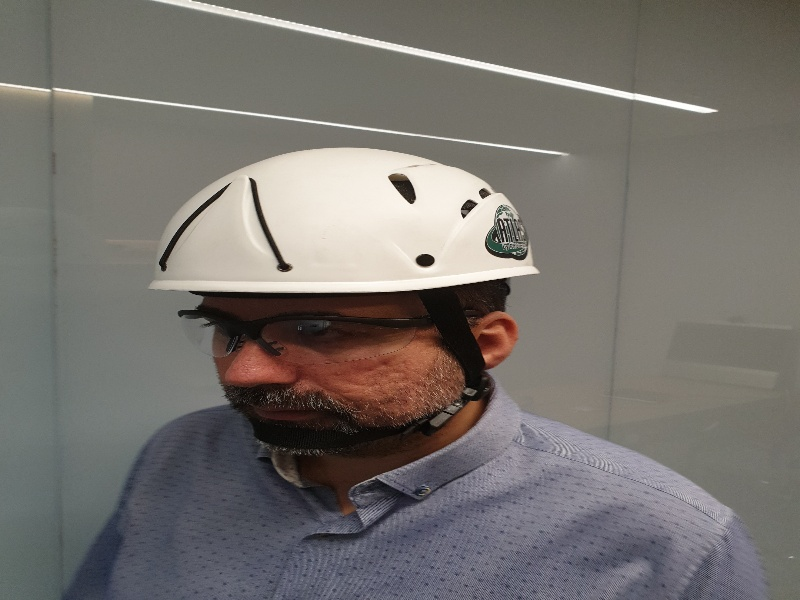Baret: (148, 148, 540, 294)
Gozluk: (176, 307, 475, 359)
